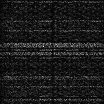lte: (1, 42, 104, 48), (1, 51, 104, 55)
